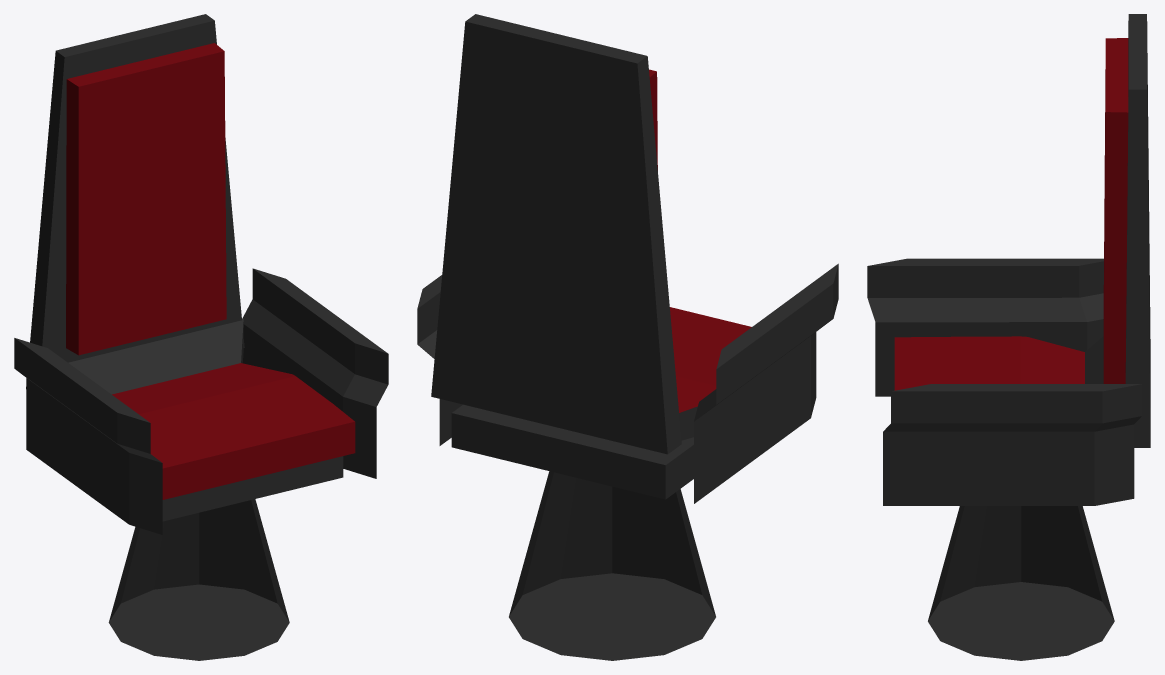
File: scifi-chair.glb
The picture shows the model from 3 angles, left to right: view 1: azimuth 30°, elevation 25°; view 2: azimuth 150°, elevation 25°; view 3: azimuth 270°, elevation 25°; orthographic projection. The views are drawn at different scales.
Visible parts, largest first — view 1: Cube; view 2: Cube; view 3: Cube.
Part boxes in pixels (left/top/right/bottom): Cube: left=14, top=14, right=388, bottom=660; Cube: left=417, top=14, right=838, bottom=660; Cube: left=867, top=14, right=1150, bottom=660.
Size of the model in its own units: 0.6564 by 1.3 by 0.5902.
